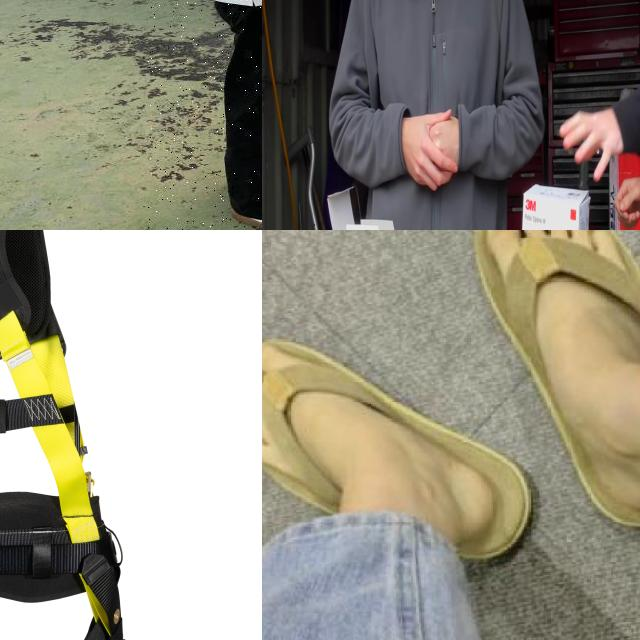Harness: (0, 230, 140, 640)
Sandals: (262, 334, 545, 558), (465, 230, 640, 562)
hand_noglove: (559, 108, 624, 181), (402, 110, 459, 192), (616, 176, 640, 230)
person: (148, 0, 262, 230)
